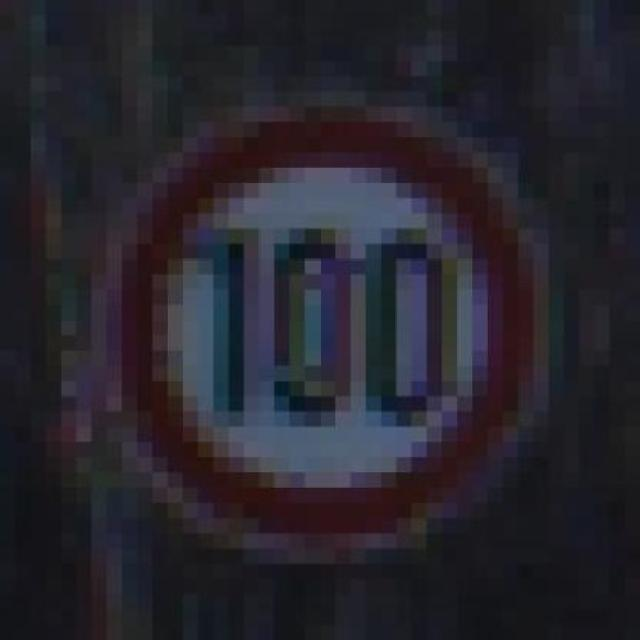forb_speed_over_100: (125, 96, 537, 539)
